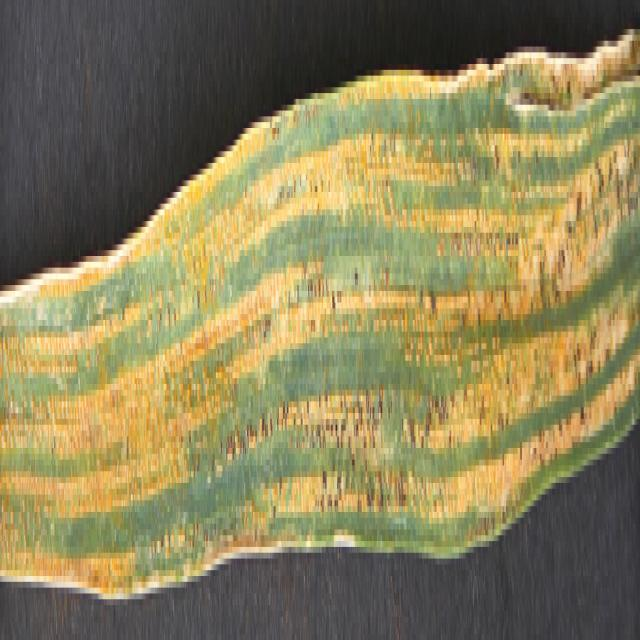leaf rust: (1, 64, 622, 593)
